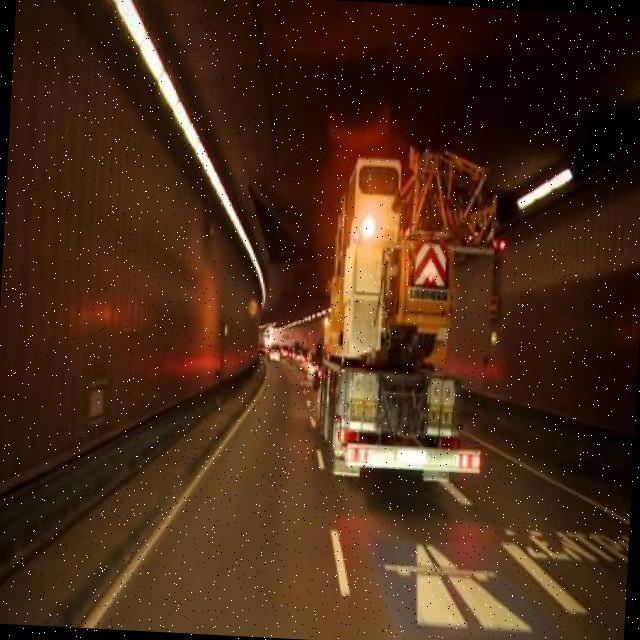Mobile Crane: (310, 148, 506, 507)
